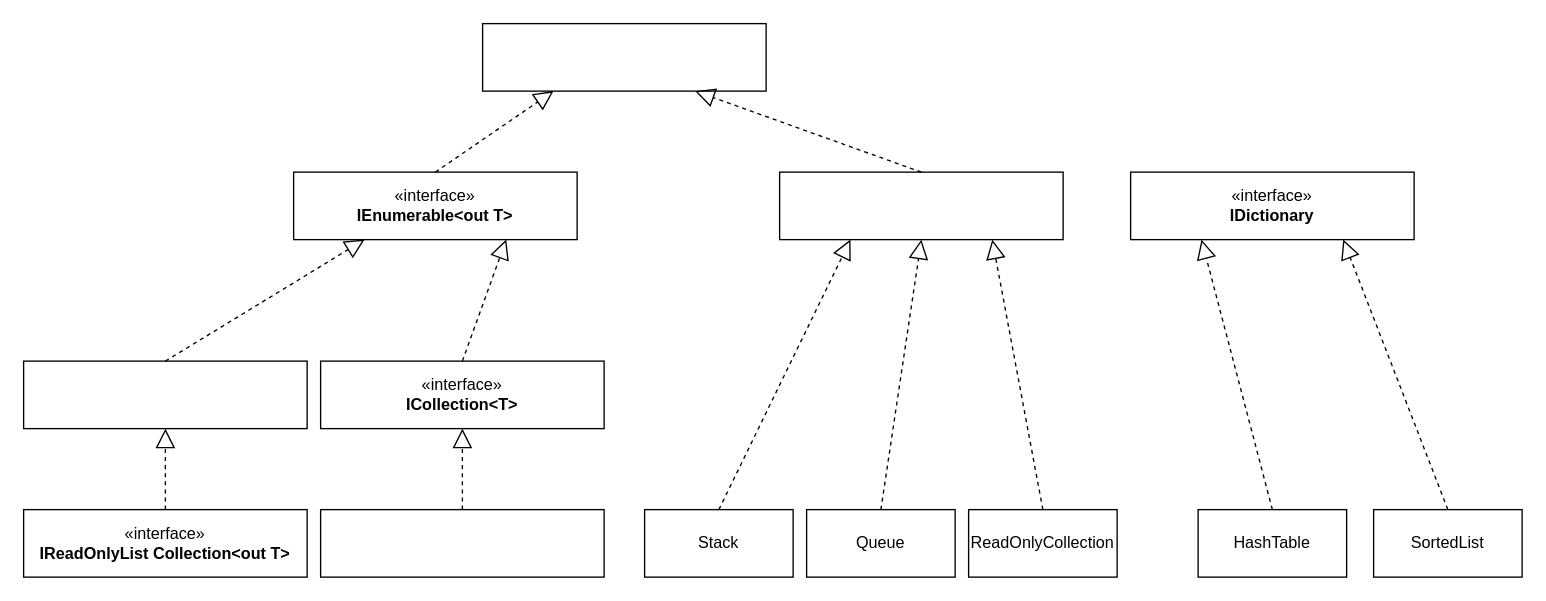
Image size: 1546x601. Some labels were removed from this diagram. Here are the shapes that lost their labels. From the top down, the centre of each, then its label:
the point at 623,56: «interface» IEnumerable
the point at 920,205: «interface» ICollection
the point at 164,394: «interface» IReadOnly Collection<out T>
the point at 461,542: «interface» IList<T>
